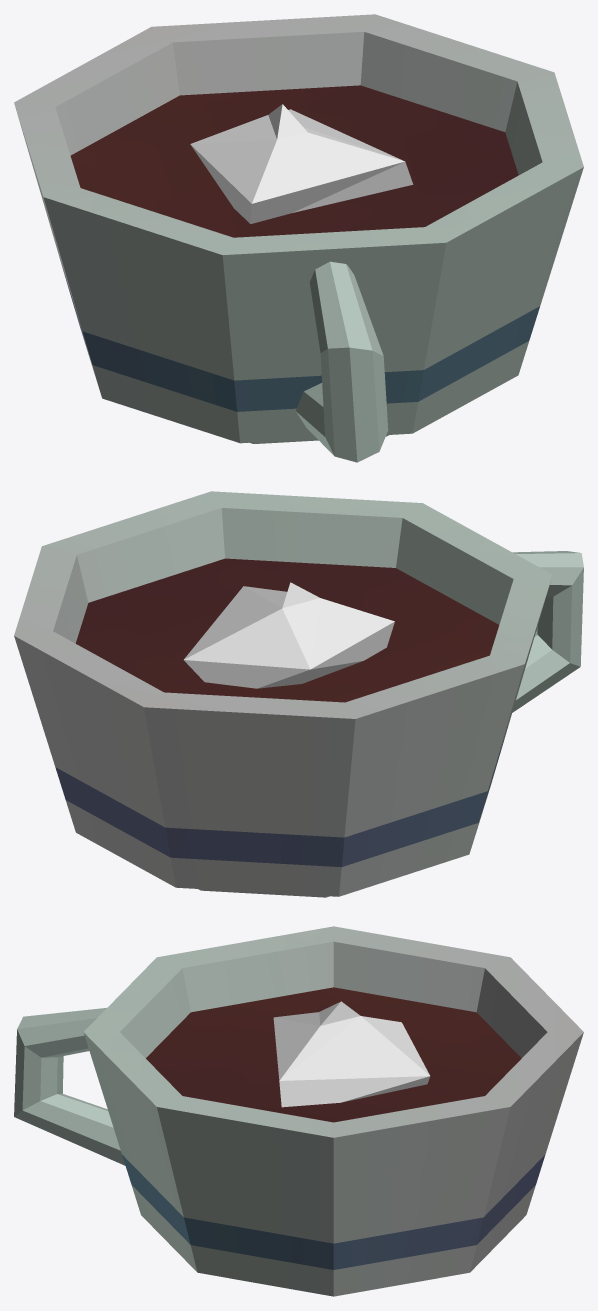
File: Food_hotchocolate.fbx
3 renders of one model, top to bottom at view 1: azimuth 30°, elevation 25°; view 2: azimuth 150°, elevation 25°; view 3: azimuth 270°, elevation 25°, orthographic. The views are drawn at different scales.
Parts seen in each view (by area): view 1: Cup; view 2: Cup; view 3: Cup.
Part boxes in pixels (bbox=[...]): Cup: bbox=[14, 14, 583, 462]; Cup: bbox=[14, 491, 583, 897]; Cup: bbox=[14, 926, 583, 1296].
Bounding box in the file's own units: 10.76 × 5.41 × 12.26.
